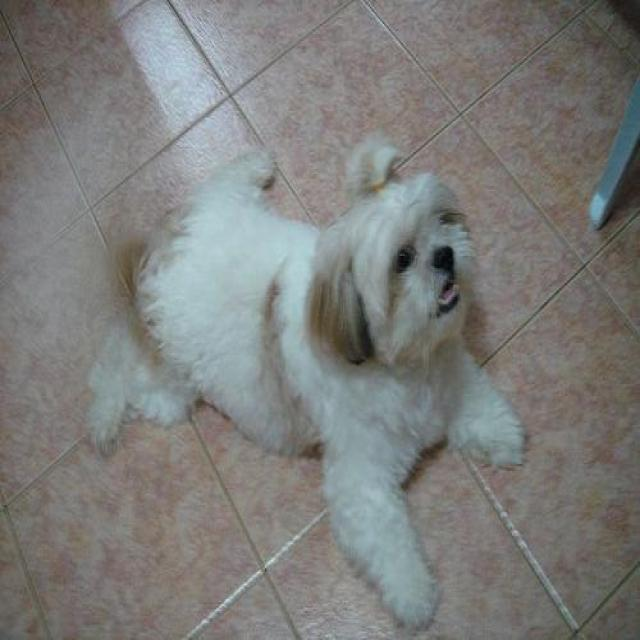shih_tzu: (83, 128, 530, 638)
